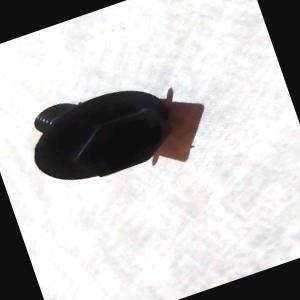parafuso: (17, 67, 185, 197)
